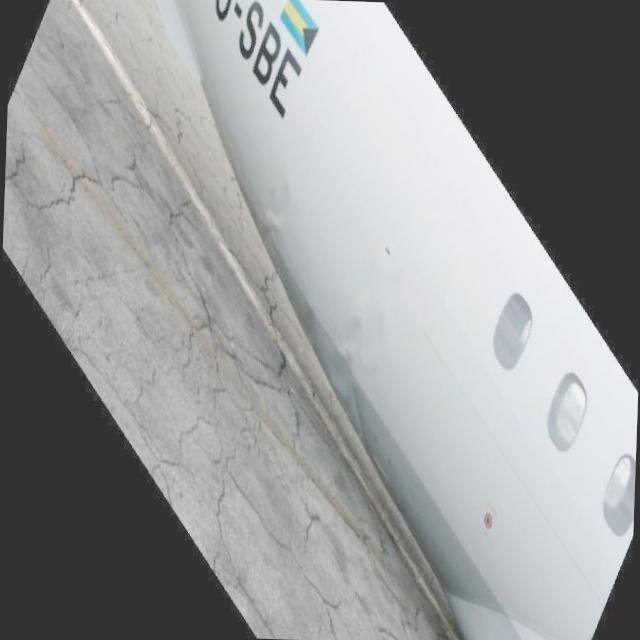dent: (252, 166, 398, 406)
